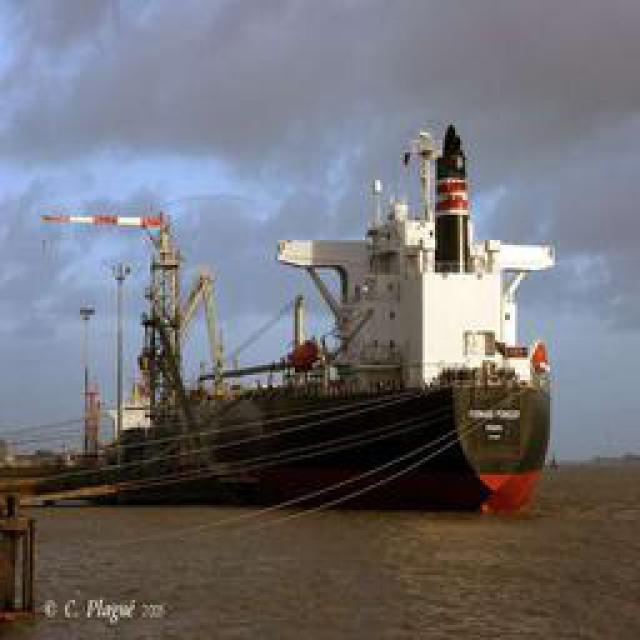Ship: (94, 126, 553, 524)
